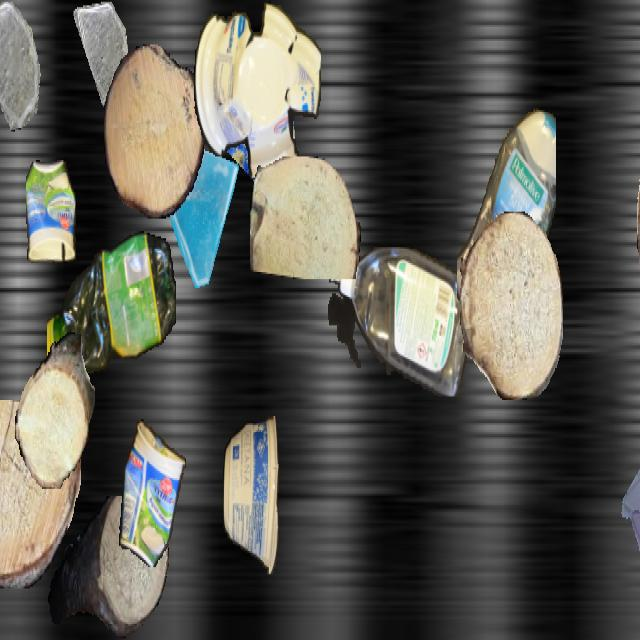glass: (204, 54, 298, 220), (158, 134, 248, 294), (73, 2, 131, 105), (0, 2, 41, 130), (619, 423, 640, 551), (624, 507, 640, 638)
plastic: (457, 102, 555, 340), (194, 2, 320, 180), (328, 247, 474, 397), (47, 224, 175, 388), (117, 420, 187, 566), (223, 416, 279, 572), (26, 160, 76, 263)
wood: (460, 212, 562, 400), (47, 496, 169, 638), (104, 45, 204, 218), (0, 400, 81, 588), (250, 156, 360, 278), (15, 332, 95, 489), (637, 109, 640, 343)
